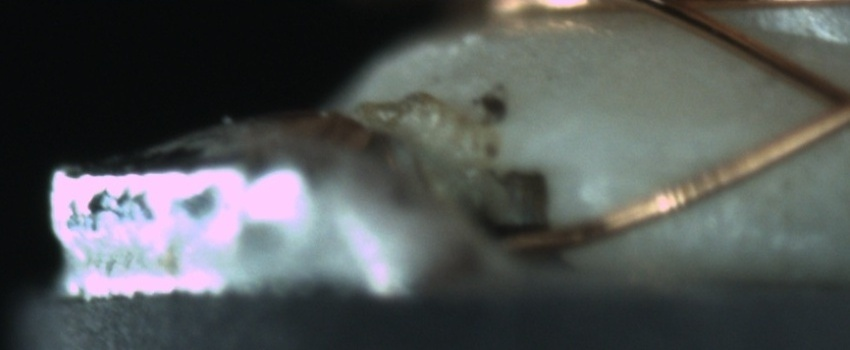CL: (802, 67, 850, 140)
